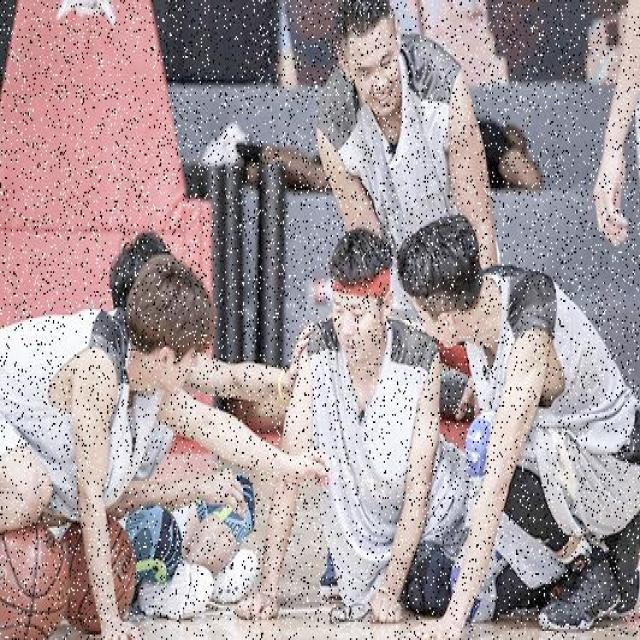fall: (267, 244, 467, 613)
